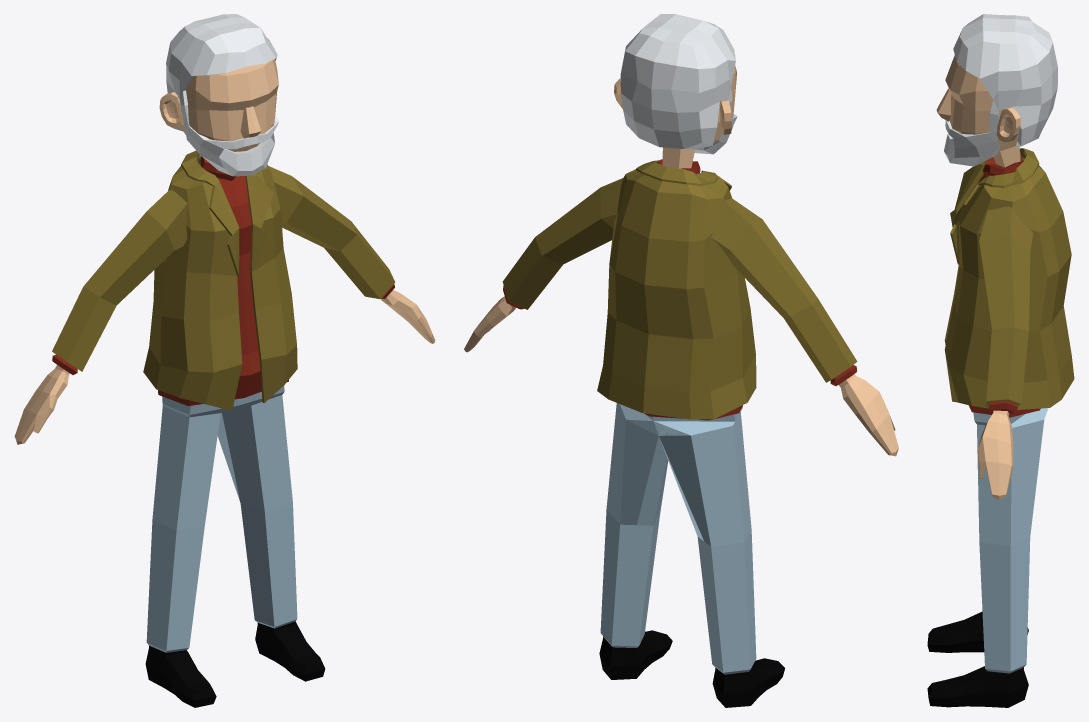
The model's file is oldman.fbx.
3 renders of one model, left to right at view 1: azimuth 30°, elevation 25°; view 2: azimuth 150°, elevation 25°; view 3: azimuth 270°, elevation 25°, orthographic. The views are drawn at different scales.
Visible parts, largest first — view 1: legs, jacket, arms, hair, head, body; view 2: jacket, legs, arms, hair, head; view 3: jacket, legs, arms, hair, head, body.
Boxes of the visible parts, bbox=[...] form: legs: bbox=[145, 385, 325, 707]; jacket: bbox=[143, 150, 297, 410]; arms: bbox=[14, 166, 435, 444]; hair: bbox=[166, 14, 279, 176]; head: bbox=[159, 59, 278, 151]; body: bbox=[158, 156, 288, 405]; jacket: bbox=[597, 160, 756, 419]; legs: bbox=[599, 403, 784, 707]; arms: bbox=[464, 178, 898, 456]; hair: bbox=[620, 14, 737, 154]; head: bbox=[614, 65, 736, 168]; jacket: bbox=[944, 148, 1074, 409]; legs: bbox=[927, 408, 1048, 707]; arms: bbox=[978, 206, 1033, 499]; hair: bbox=[944, 14, 1057, 166]; head: bbox=[936, 55, 1020, 167]; body: bbox=[969, 153, 1040, 417].
Size of the model in its own units: 86.85 by 128 by 26.28.
